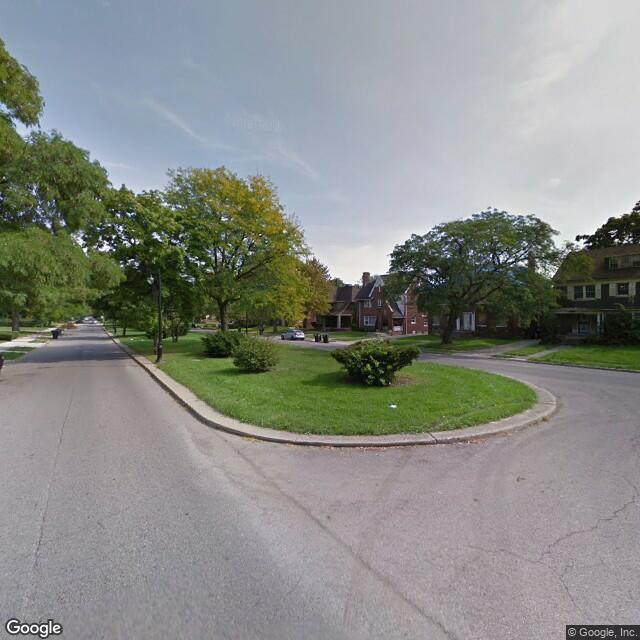litter: (389, 402, 399, 410)
